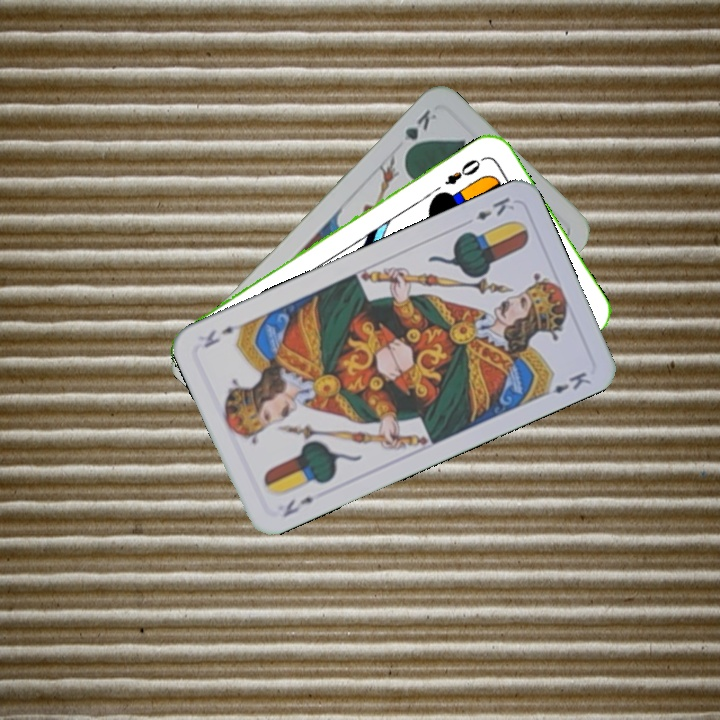EK: (472, 193, 517, 223), (278, 492, 317, 520)
EO: (440, 153, 488, 188)
GK: (399, 105, 440, 157)
